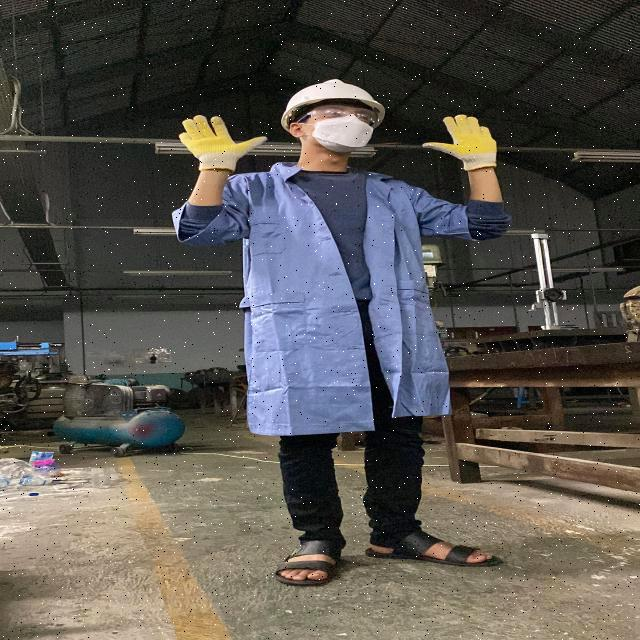Hard_hat: (278, 73, 388, 120)
